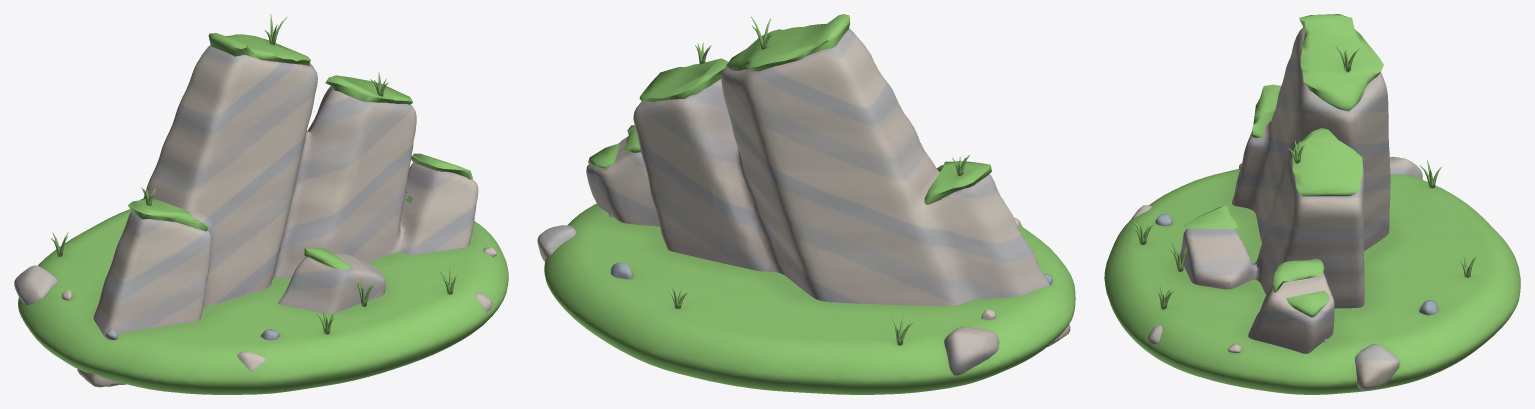
The model's file is rocky-outcrop.glb.
The picture shows the model from 3 angles, left to right: view 1: azimuth 30°, elevation 25°; view 2: azimuth 150°, elevation 25°; view 3: azimuth 270°, elevation 25°; orthographic projection. The views are drawn at different scales.
Parts seen in each view (by area): view 1: rocky-outcrop_body; view 2: rocky-outcrop_body; view 3: rocky-outcrop_body.
Part boxes in pixels (x1,y1,x2,y2): rocky-outcrop_body: (14,14,508,394); rocky-outcrop_body: (537,14,1075,394); rocky-outcrop_body: (1104,14,1520,394).
Size of the model in its own units: 4.17 by 2.47 by 3.42.
1 material, 1 textured.
